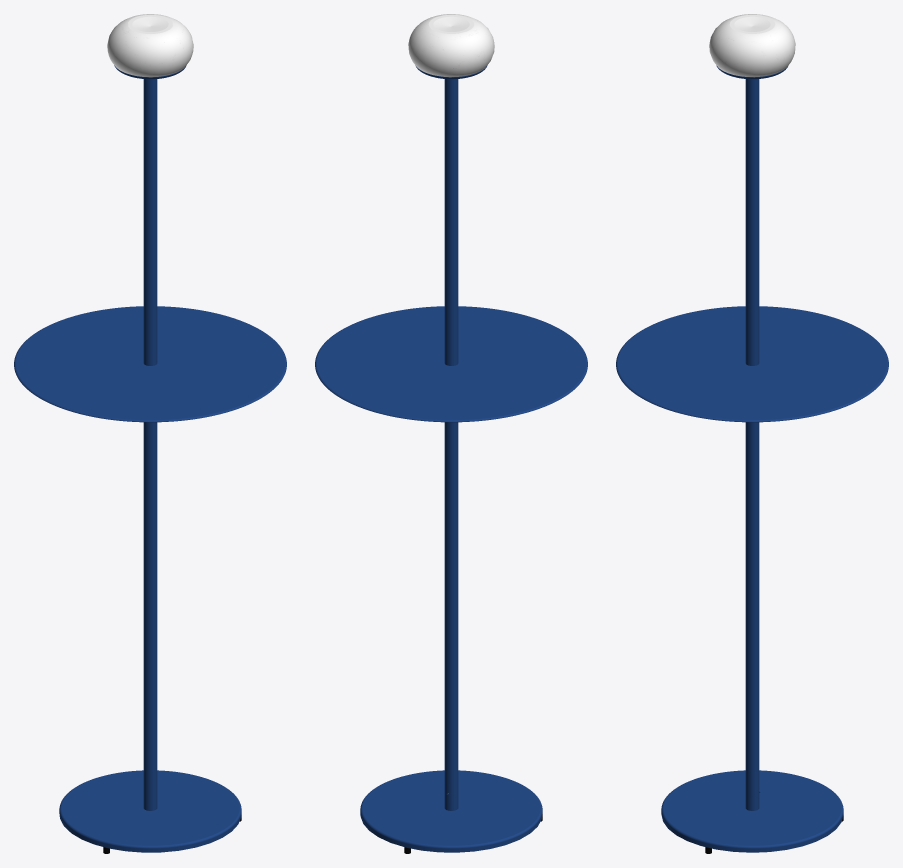
Rendered from UPPER_BLUE.gltf.
3 renders of one model, left to right at view 1: azimuth 30°, elevation 25°; view 2: azimuth 150°, elevation 25°; view 3: azimuth 270°, elevation 25°, orthographic.
Parts seen in each view (by area): view 1: /Users/seba/Desktop/ASSISTANT/2023-2024/S2/AGO Seoul Highlig (×4); view 2: /Users/seba/Desktop/ASSISTANT/2023-2024/S2/AGO Seoul Highlig (×4); view 3: /Users/seba/Desktop/ASSISTANT/2023-2024/S2/AGO Seoul Highlig (×4).
Part boxes in pixels (bbox=[...]): /Users/seba/Desktop/ASSISTANT/2023-2024/S2/AGO Seoul Highlig (×4): bbox=[14, 14, 286, 852]; /Users/seba/Desktop/ASSISTANT/2023-2024/S2/AGO Seoul Highlig (×4): bbox=[315, 14, 587, 852]; /Users/seba/Desktop/ASSISTANT/2023-2024/S2/AGO Seoul Highlig (×4): bbox=[616, 14, 888, 852].
Bounding box in the file's own units: 0.5991 × 1.93 × 0.5991.
16 materials, 1 textured.
